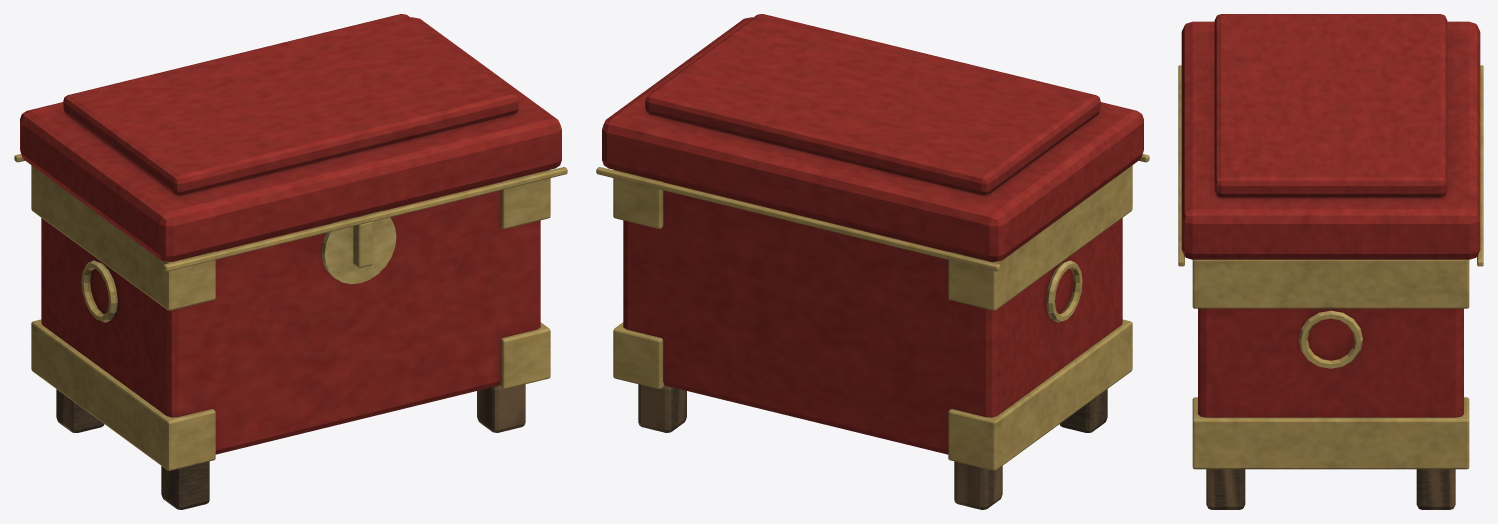
The model's file is poi_collector_city.glb.
3 views of the same model, side by side, from view 1: azimuth 30°, elevation 25°; view 2: azimuth 150°, elevation 25°; view 3: azimuth 270°, elevation 25° (orthographic).
Parts seen in each view (by area): view 1: poi_collector_city; view 2: poi_collector_city; view 3: poi_collector_city.
Part boxes in pixels (bbox=[...]): poi_collector_city: bbox=[14, 14, 567, 509]; poi_collector_city: bbox=[596, 14, 1149, 509]; poi_collector_city: bbox=[1178, 14, 1483, 509].
Bounding box in the file's own units: 0.84 × 0.66 × 0.552.
Materials: 3 (3 with a texture image).
